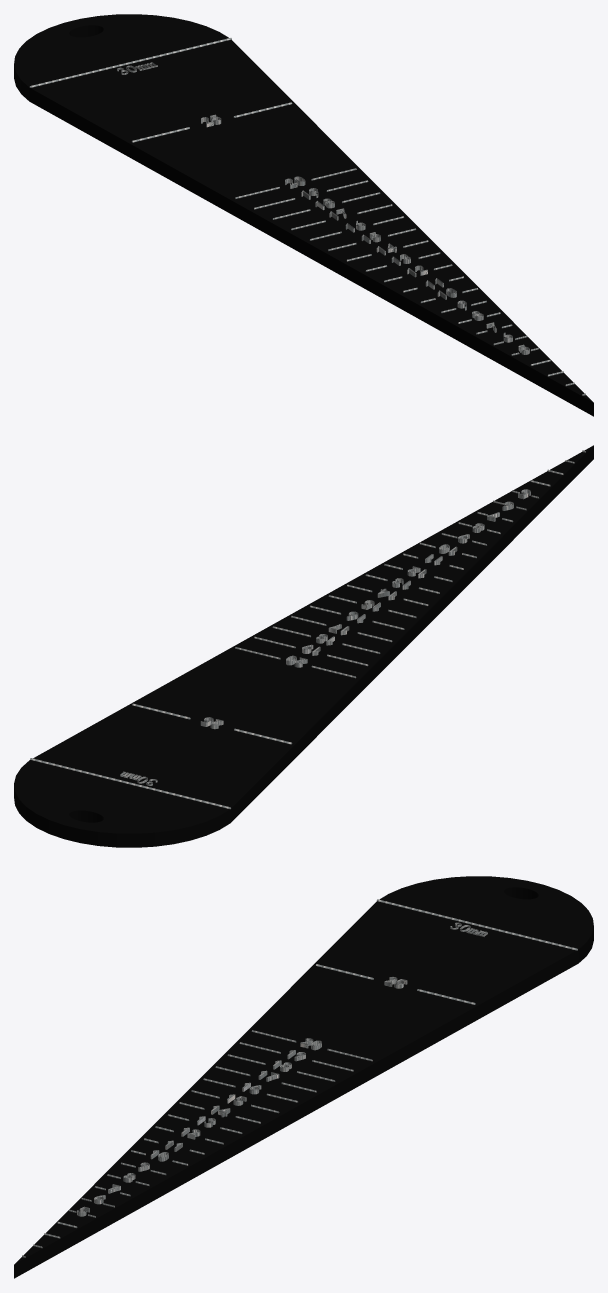
The model's file is 轨缝尺.glb.
The picture shows the model from 3 angles, top to bottom: view 1: azimuth 30°, elevation 25°; view 2: azimuth 150°, elevation 25°; view 3: azimuth 330°, elevation 25°; orthographic projection.
Parts seen in each view (by area): view 1: 轨缝尺形状; view 2: 轨缝尺形状; view 3: 轨缝尺形状.
Boxes of the visible parts, bbox=[...] form: 轨缝尺形状: bbox=[14, 14, 593, 416]; 轨缝尺形状: bbox=[14, 445, 593, 847]; 轨缝尺形状: bbox=[14, 876, 593, 1278].
Size of the model in its own units: 0.03 by 0.00257 by 0.1349.
1 material, 1 textured.
